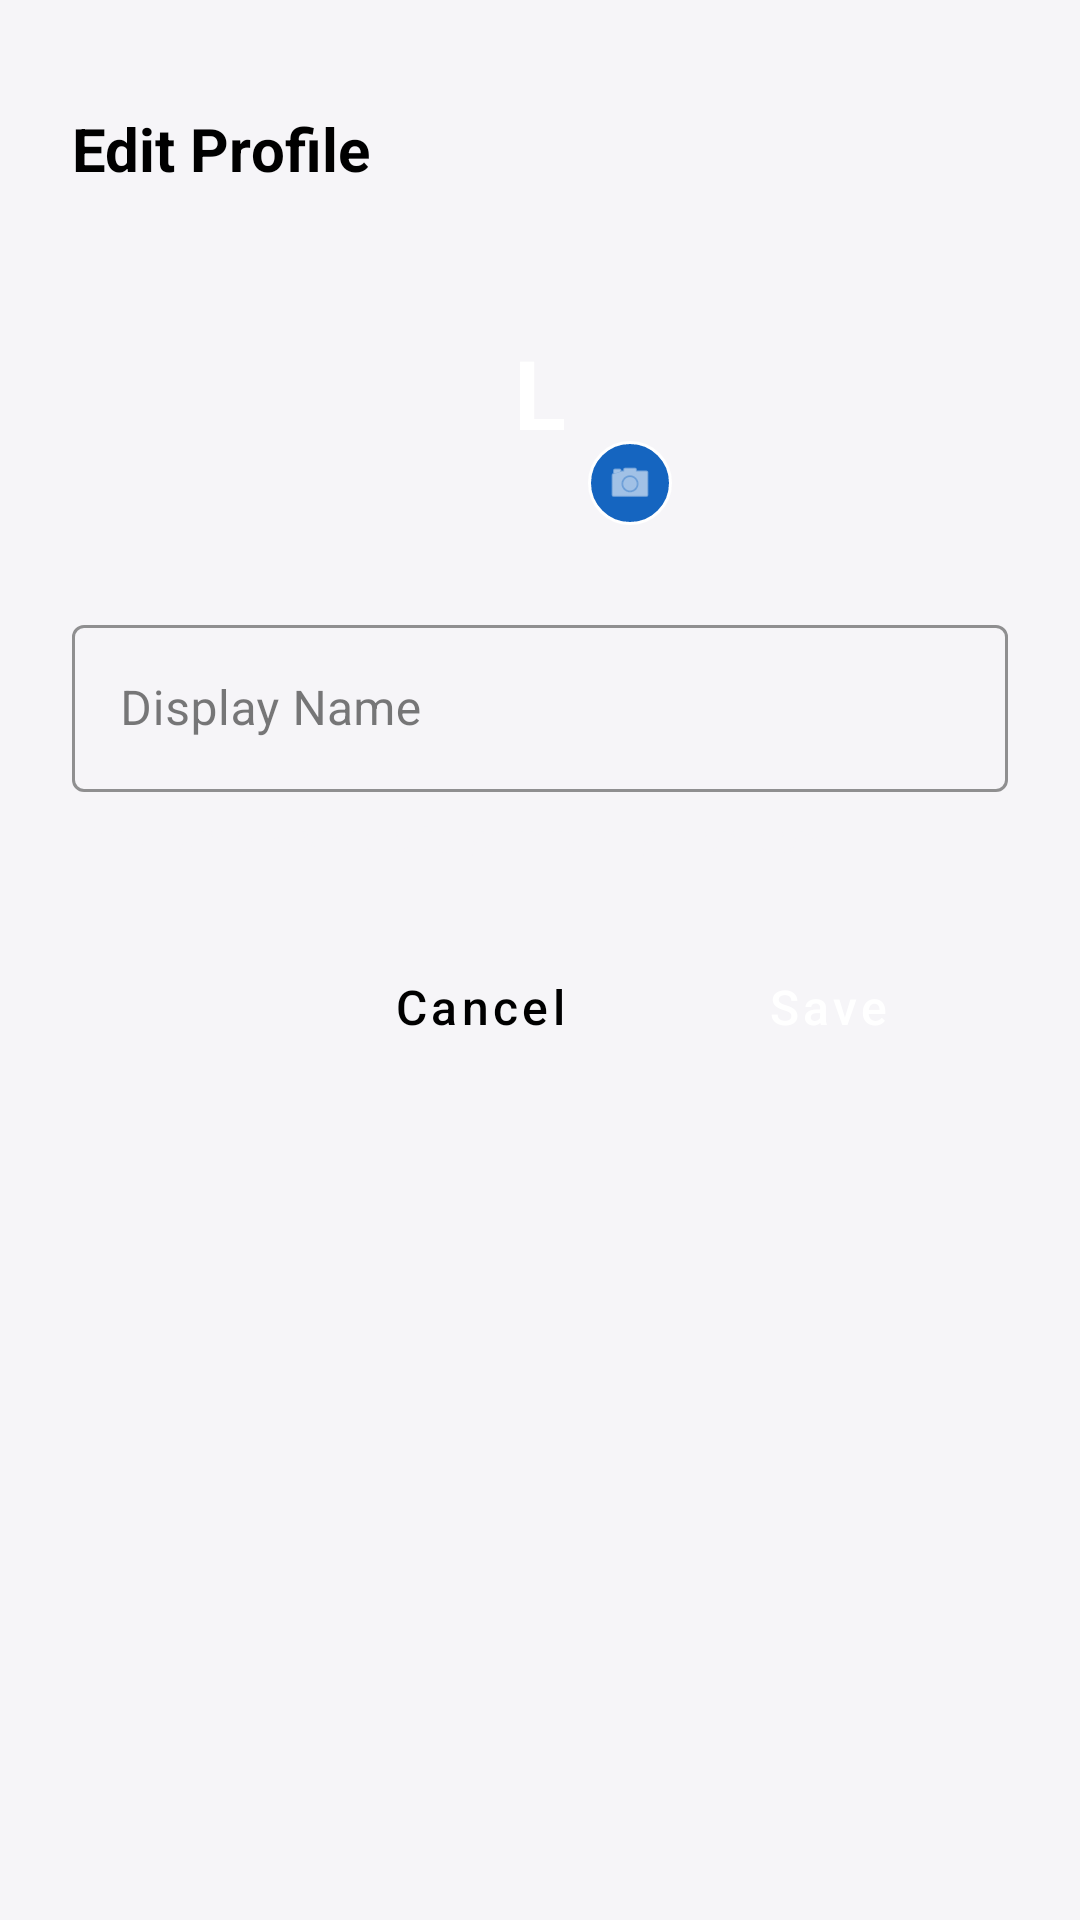

Named icons in this screenshot (1080 x 1920) and their centers, (x=x, y=y):
camera: (x=630, y=483)
